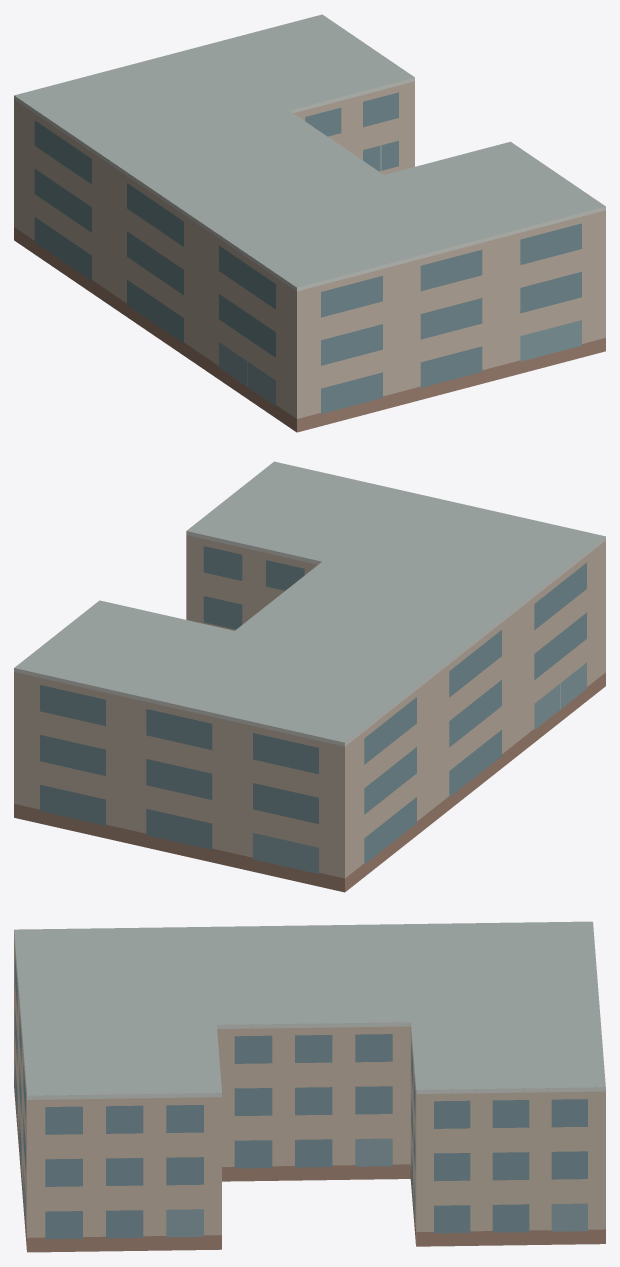
File: survey-upis-32708909.glb
The picture shows the model from 3 angles, top to bottom: view 1: azimuth 30°, elevation 25°; view 2: azimuth 150°, elevation 25°; view 3: azimuth 270°, elevation 25°; orthographic projection. The views are drawn at different scales.
Visible parts, largest first — view 1: survey-upis-32708909.tmp; view 2: survey-upis-32708909.tmp; view 3: survey-upis-32708909.tmp.
Part boxes in pixels (box(x1,y1,x2,y2)): survey-upis-32708909.tmp: box(14, 14, 605, 432); survey-upis-32708909.tmp: box(14, 461, 605, 892); survey-upis-32708909.tmp: box(14, 921, 605, 1252).
Bounding box in the file's own units: 21.83 × 9.15 × 31.33.
